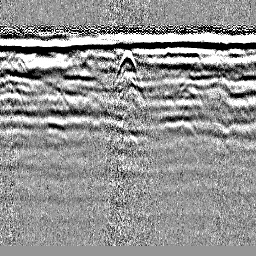cavity: (113, 48, 141, 85)
